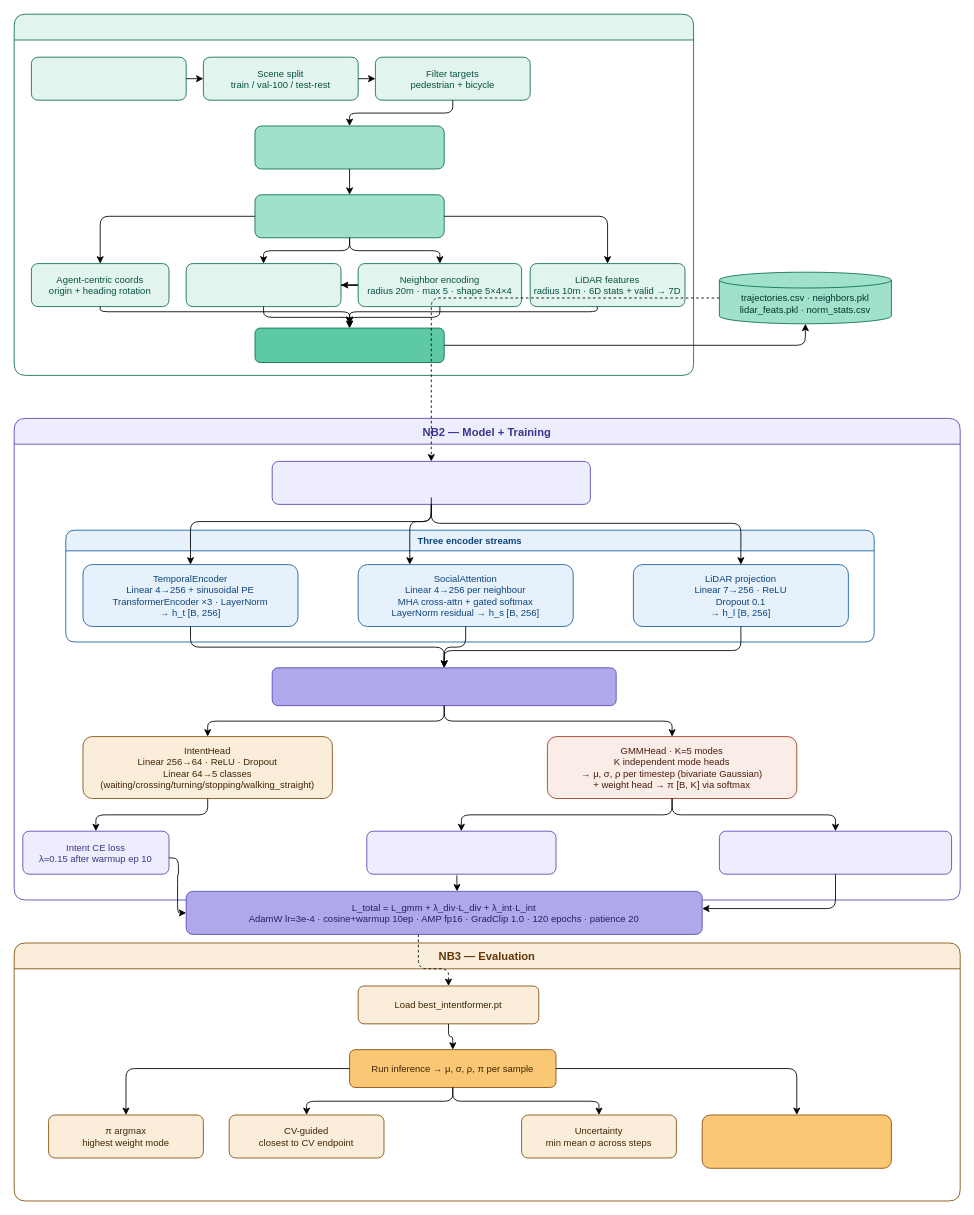
Image size: 974x1215. Some labels were removed from this diagram. Here are the shapes that lost their labels. From the top down, the box of each, then its label:
(31, 56, 186, 100): nuScenes v1.0-trainval 1000 scenes · 2Hz
(254, 125, 444, 169): Pass 1: global tracks inst_tracks[scene][instance]
(13, 13, 694, 375): NB1 — Data Preparation
(254, 194, 444, 238): Pass 2: sliding windows 4 past + 6 future frames @ 0.5s
(185, 263, 341, 307): Intent heuristic 5 classes from speed + ang_vel
(254, 327, 444, 362): Δ-std normalisation std_x, std_y from train diffs
(271, 461, 590, 504): TrajectoryDataset past_feat 4×4 (x,y,vx,vy) · flip-x · scale · neighbor dropout
(271, 667, 616, 706): Fusion: cat(h_t, h_s, h_l) → Linear 768→256 + ReLU → h [B, 256]
(366, 830, 556, 874): GMM-NLL loss bivariate Gaussian · logsumexp over K
(719, 830, 952, 874): Diversity loss exp(−pairwise dist) · ramps 0→0.10 ep 20–80
(701, 1114, 891, 1168): Combined rank w_cv·r_cv + w_π·r_π + w_unc·r_unc weights grid-searched on val set
